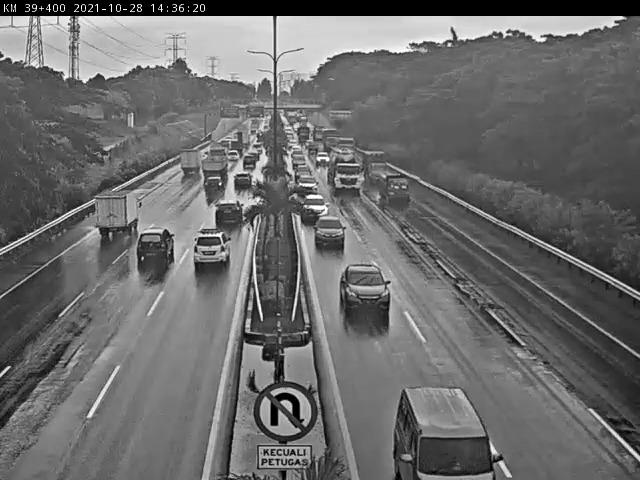big truck: (329, 147, 364, 195), (199, 148, 229, 178)
car: (342, 262, 395, 314), (191, 227, 233, 269), (134, 227, 176, 262), (312, 214, 348, 248), (302, 192, 328, 221), (215, 199, 244, 225), (231, 169, 253, 191), (201, 174, 224, 194), (297, 173, 319, 193)
small truck: (93, 189, 141, 238), (376, 168, 410, 205), (174, 148, 203, 182)
